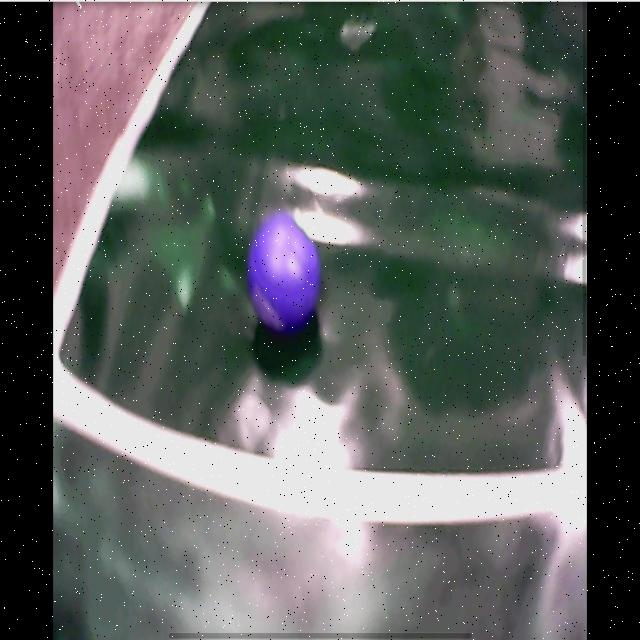ball: (252, 219, 321, 334)
